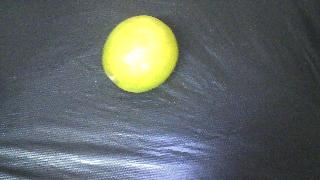LOCAL: (102, 15, 178, 93)
